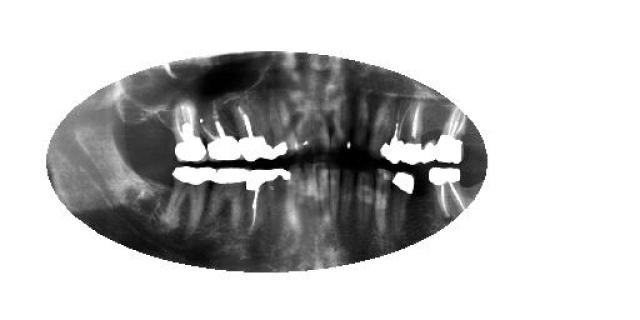Fillings: (166, 165, 212, 234), (208, 166, 250, 232), (391, 168, 415, 234), (266, 91, 288, 160), (422, 114, 438, 165), (271, 166, 291, 188)
Implant: (196, 96, 240, 164), (169, 100, 209, 164), (234, 100, 274, 160), (381, 96, 410, 166), (428, 166, 468, 216), (439, 105, 469, 164), (248, 166, 272, 234), (404, 96, 421, 166)
